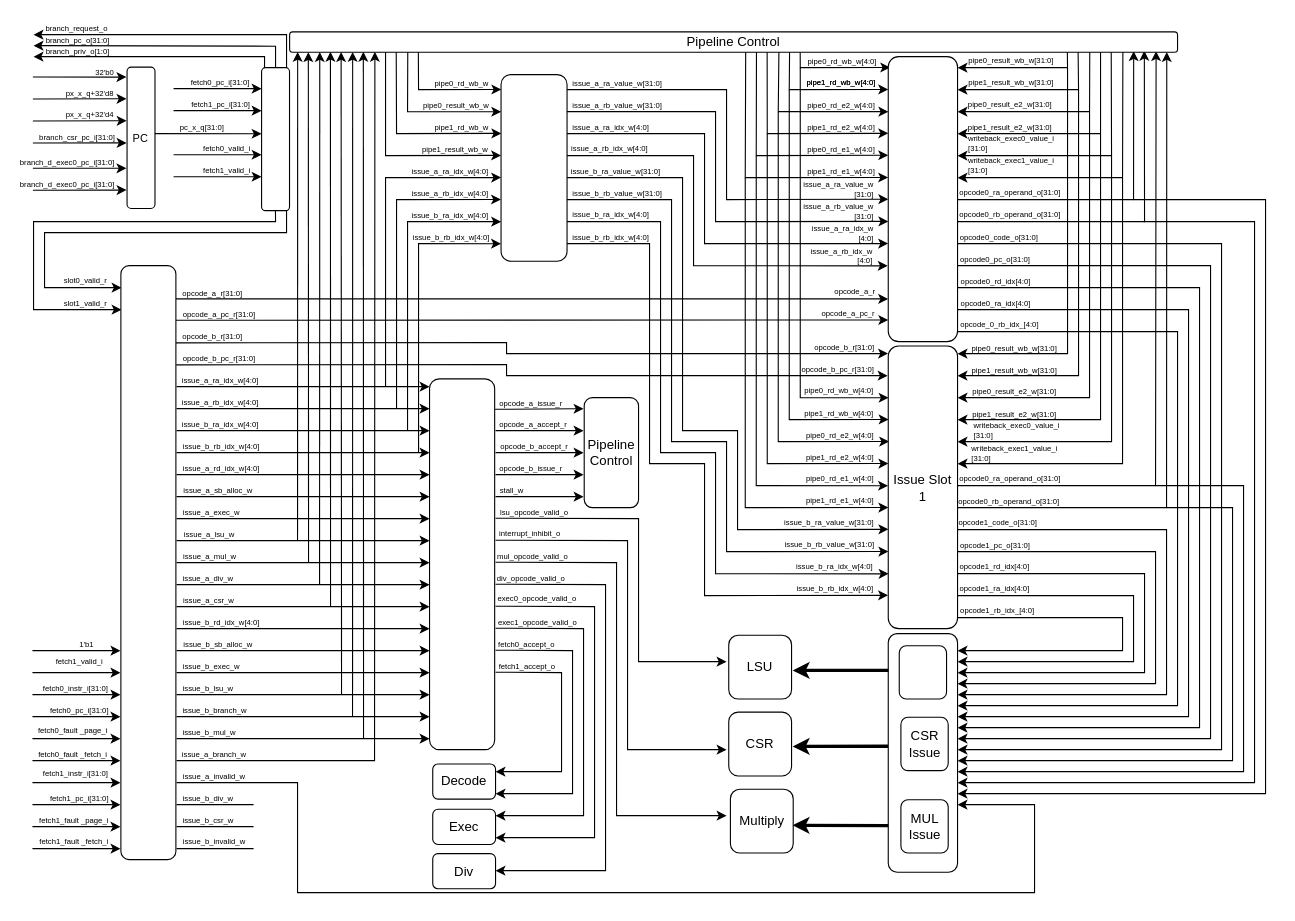
Image size: 1295x921. Some labels were removed from this diagram. The shapes that lost their labels are listed below. From the top down, each one's centre as x and y in pixels, then its label:
At (x=275, y=139): "Issue select".
At (x=533, y=167): "Regfile".
At (x=922, y=199): "Issue Slot 0".
At (x=148, y=562): "Instruction Decoder".
At (x=461, y=564): "Scheduling".
At (x=922, y=672): "LSU Issue".
